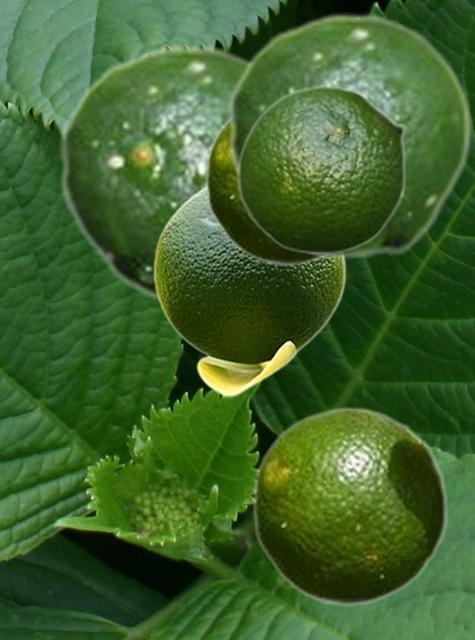calamansi: (227, 12, 472, 260), (59, 44, 251, 301), (153, 184, 345, 396), (251, 406, 448, 605), (237, 85, 406, 254), (204, 117, 325, 265)
